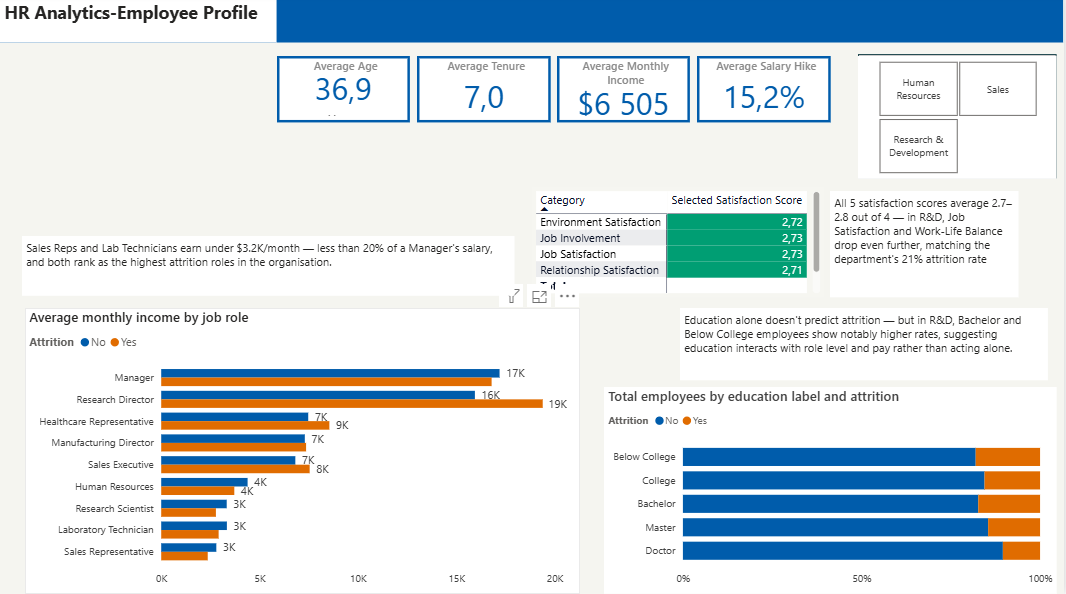

The page's visual inventory and layout, read from the dashboard file:
{"tool":"powerbi","page":{"name":"Employee Profile","canvas":[1280,720],"ordinal":2},"visuals":[{"type":"shape","box":[1032.7,69.6,239.1,149.8],"z":0},{"type":"shape","box":[0,0,1280,56],"z":1000},{"type":"textbox","box":[0,0,333.1,56.4],"z":2000},{"type":"slicer","fields":{"Values":["HR_Analytics.Department"]},"box":[1032.8,71.8,239.3,147.5],"z":3000},{"type":"card","title":"Average Age","fields":{"Values":["_Measures.Avg Age"]},"box":[333.6,71.8,159.5,79.8],"z":4000},{"type":"card","title":"Average Tenure","fields":{"Values":["_Measures.Avg Tenure"]},"box":[501.5,71.8,160.8,79.8],"z":5000},{"type":"card","title":"Average Monthly Income","fields":{"Values":["_Measures.Avg Monthly Income"]},"box":[670.8,71.8,159.5,79.8],"z":6000},{"type":"card","title":"Average Salary Hike","fields":{"Values":["_Measures.Avg Salary Hike"]},"box":[838.7,71.8,160.8,79.8],"z":7000},{"type":"pivotTable","fields":{"Rows":["Satisfaction Categories.Category"],"Values":["_Measures.Selected Satisfaction Score"]},"box":[640.7,229.9,352.2,132.9],"z":8000},{"type":"textbox","box":[999.5,235.3,227.3,127.6],"z":9000},{"type":"clusteredBarChart","title":"Average monthly income by job role","fields":{"Category":["HR_Analytics.Job Role"],"Y":["_Measures.Avg Monthly Income"],"Series":["HR_Analytics.Attrition"]},"box":[30.3,375.7,667.5,344.1],"z":10000},{"type":"textbox","box":[26.2,289,593.2,71.6],"z":11000},{"type":"hundredPercentStackedBarChart","title":"Total employees by education label and attrition","fields":{"Category":["HR_Analytics.Education Lebel"],"Y":["_Measures.Total Employees"],"Series":["HR_Analytics.Attrition"]},"box":[726.7,470.7,545,249.1],"z":12000},{"type":"textbox","box":[818.9,375.7,443.2,86.7],"z":13000}]}

Visuals, with their boxes in screenshot pixels (x1, y1, x2, y2), scaled from the page's 1280x720 canvas onto the 1066x594 screenshot:
shape: (left=860, top=57, right=1059, bottom=181)
shape: (left=0, top=0, right=1065, bottom=46)
textbox: (left=0, top=0, right=277, bottom=47)
slicer - HR_Analytics.Department: (left=860, top=59, right=1059, bottom=181)
"Average Age" card: (left=278, top=59, right=411, bottom=125)
"Average Tenure" card: (left=418, top=59, right=552, bottom=125)
"Average Monthly Income" card: (left=559, top=59, right=691, bottom=125)
"Average Salary Hike" card: (left=698, top=59, right=832, bottom=125)
pivotTable - Satisfaction Categories.Category x _Measures.Selected Satisfaction Score: (left=534, top=190, right=827, bottom=299)
textbox: (left=832, top=194, right=1022, bottom=299)
"Average monthly income by job role" clusteredBarChart: (left=25, top=310, right=581, bottom=593)
textbox: (left=22, top=238, right=516, bottom=297)
"Total employees by education label and attrition" hundredPercentStackedBarChart: (left=605, top=388, right=1059, bottom=593)
textbox: (left=682, top=310, right=1051, bottom=381)
